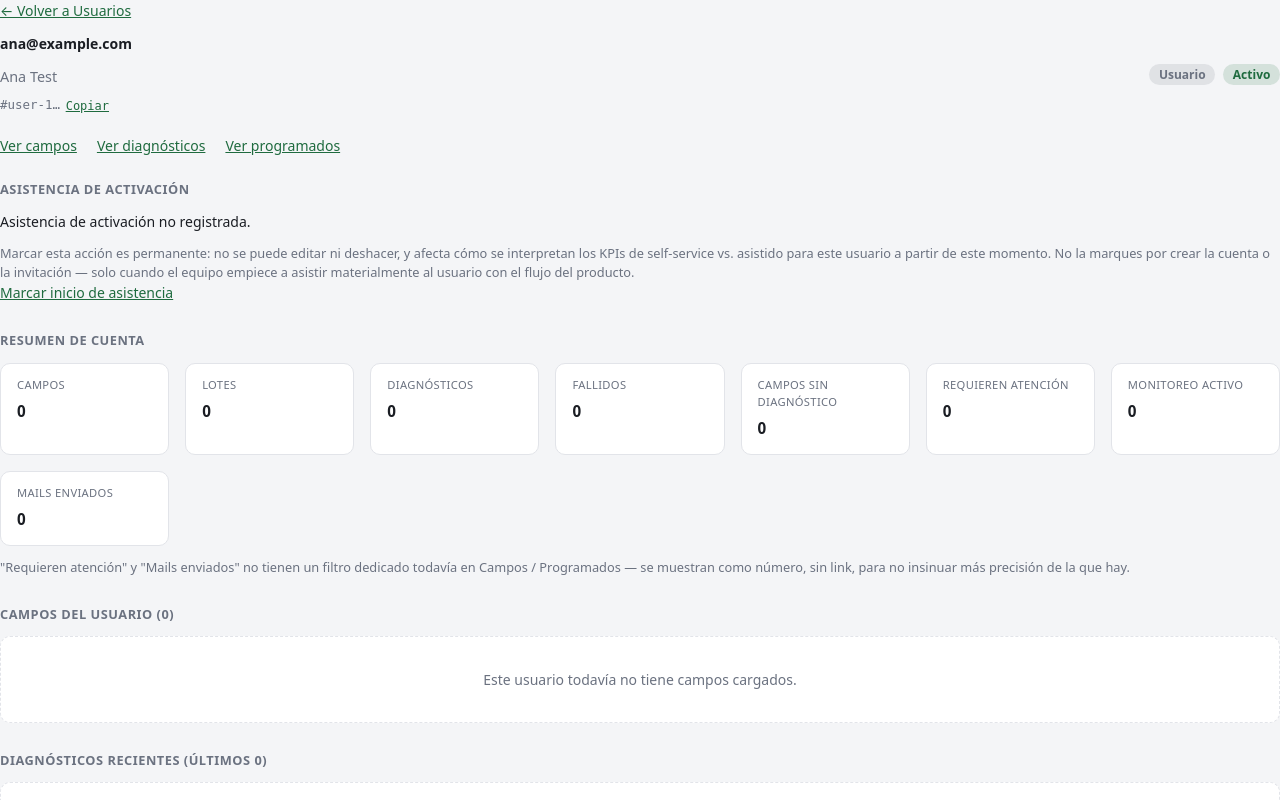
Test: UserDetailComponent (Admin PR 7) › Asistencia de activación (MEASUREMENT GAP P1-06) › éxito: actualiza la UI a "iniciada el …", oculta el botón, y no vuelve a pedir el detalle completo
This screenshot has width=1280, height=800.
Click the button "Marcar inicio de asistencia".
click(87, 293)  # box [0,282,173,304]
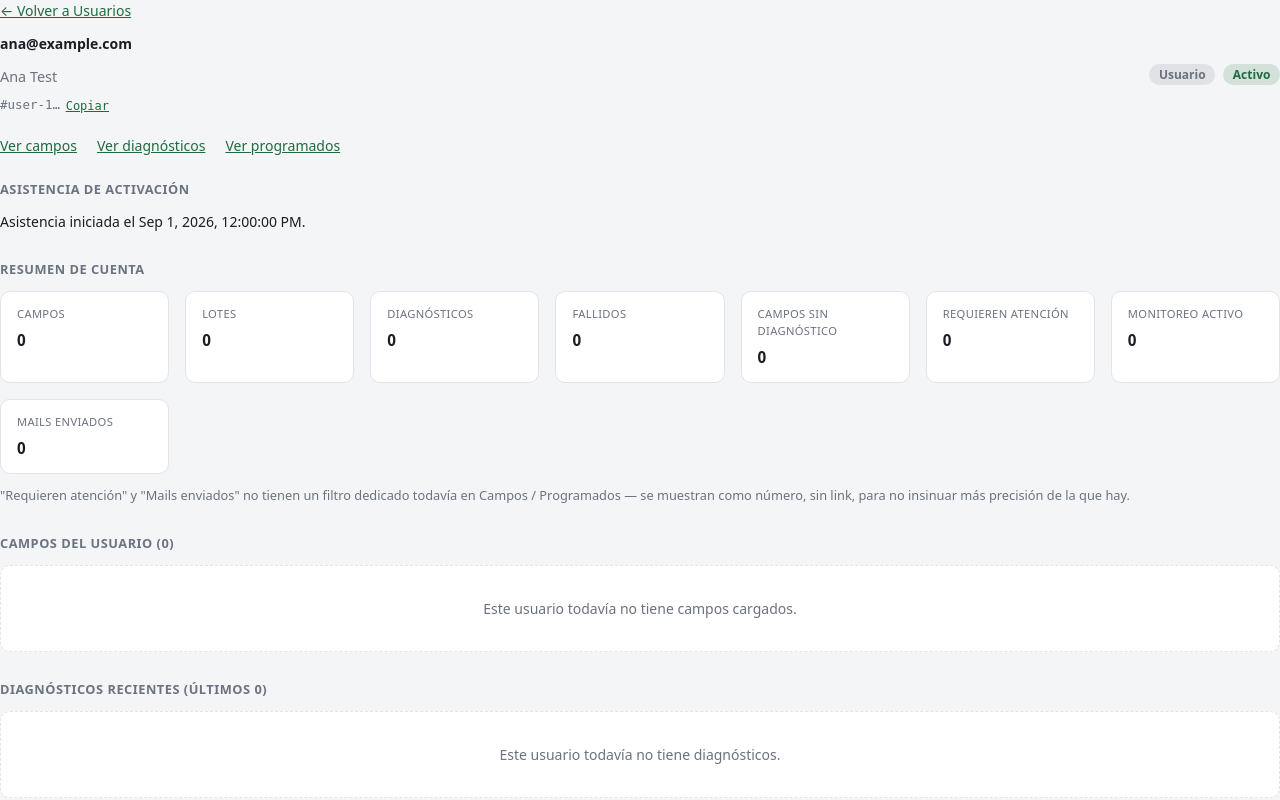
Check: the text "Asistencia iniciada el" is shown, box [0,212,306,231]
